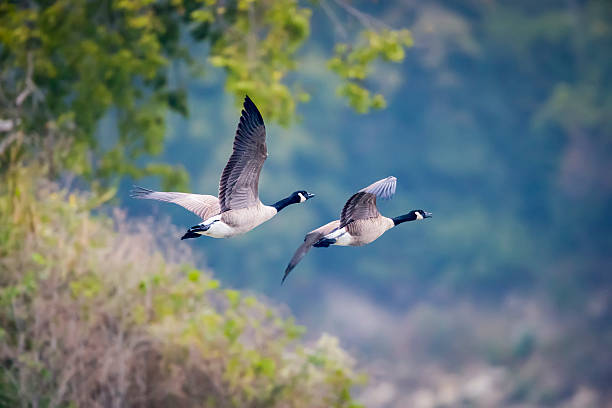goose: (122, 91, 316, 245), (277, 173, 435, 289)
